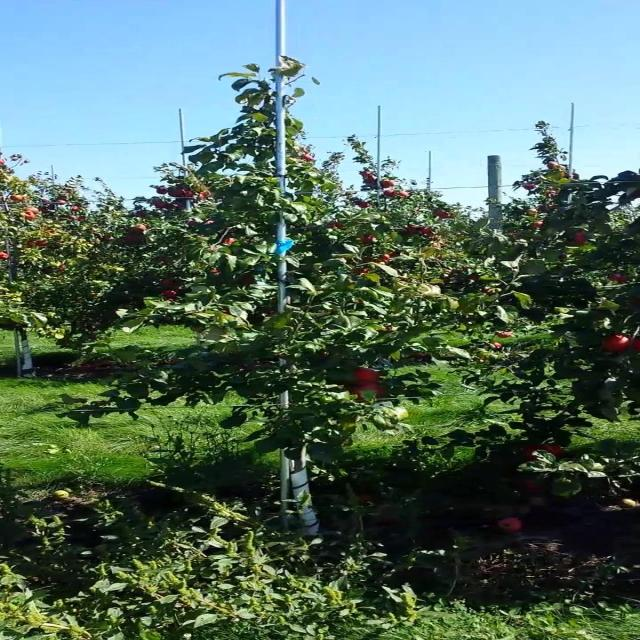apple: (525, 444, 562, 460), (355, 384, 384, 399), (604, 336, 628, 352), (355, 368, 379, 384), (525, 480, 544, 491), (575, 232, 590, 245), (611, 276, 631, 284), (632, 340, 639, 351)
